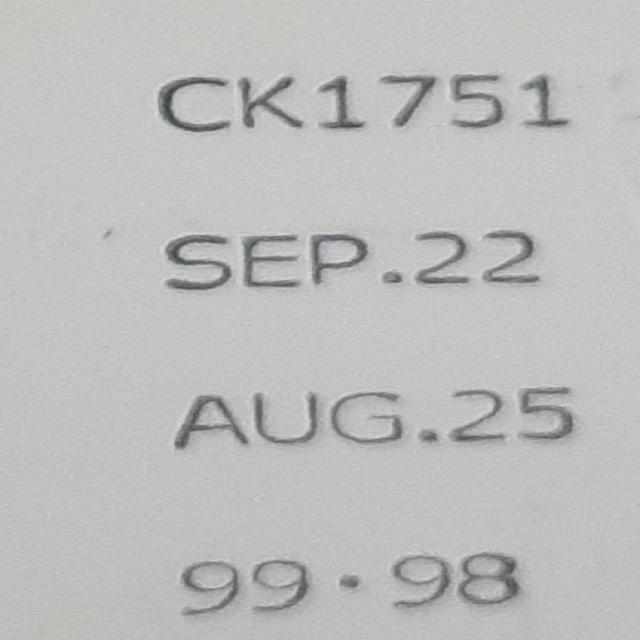sentence: (172, 386, 575, 449), (158, 74, 567, 132), (164, 230, 540, 290), (179, 551, 523, 616)
